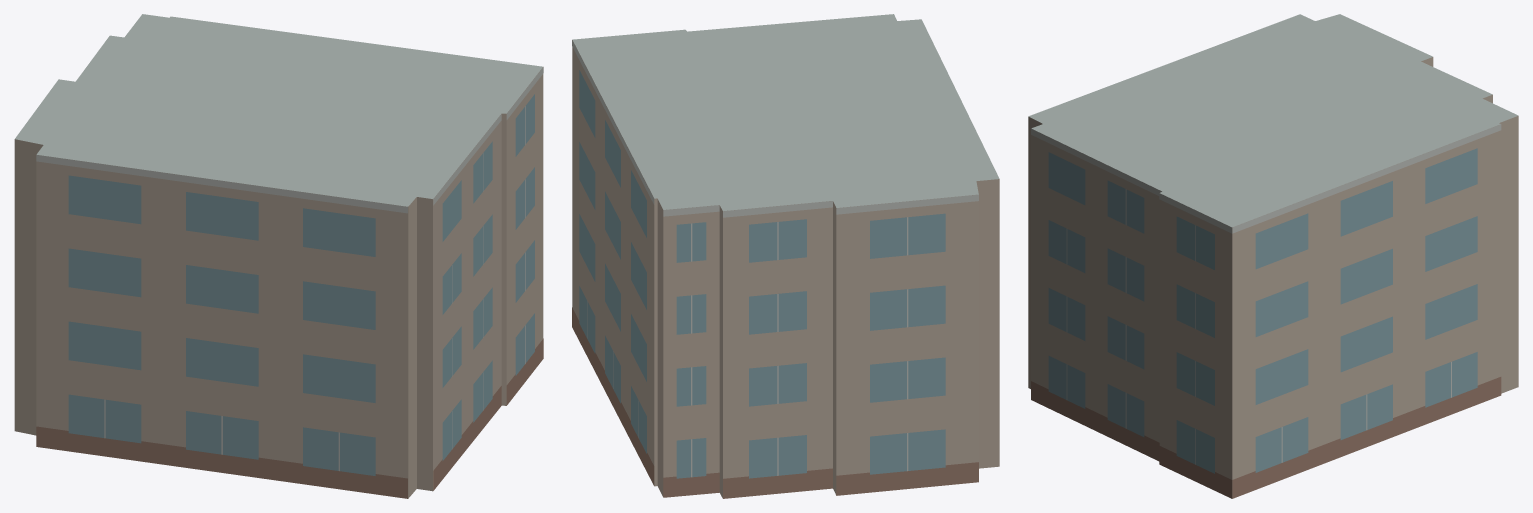
Rendered from survey-upis-33016445.glb.
3 views of the same model, side by side, from view 1: azimuth 30°, elevation 25°; view 2: azimuth 150°, elevation 25°; view 3: azimuth 270°, elevation 25° (orthographic). The views are drawn at different scales.
Visible parts, largest first — view 1: survey-upis-33016445.tmp; view 2: survey-upis-33016445.tmp; view 3: survey-upis-33016445.tmp.
Part boxes in pixels (x1=…): survey-upis-33016445.tmp: x1=14, y1=14, x2=543, y2=498; survey-upis-33016445.tmp: x1=572, y1=14, x2=999, y2=498; survey-upis-33016445.tmp: x1=1028, y1=14, x2=1518, y2=498.
Bounding box in the file's own units: 17.89 × 10.6 × 17.37.
